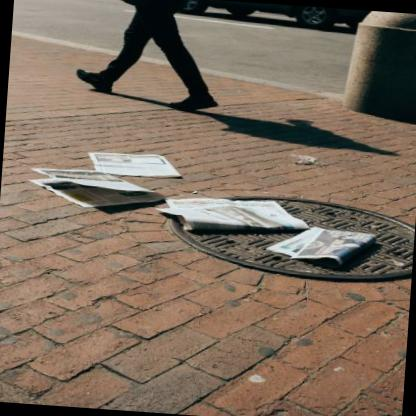manholes: (140, 168, 416, 319)
